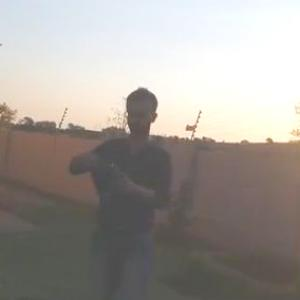follow: (61, 75, 179, 299)
